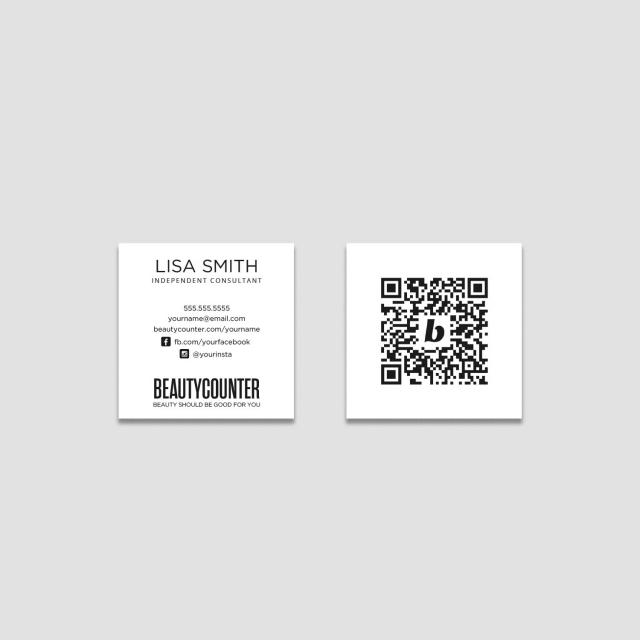QR-codes: (378, 273, 490, 389)
